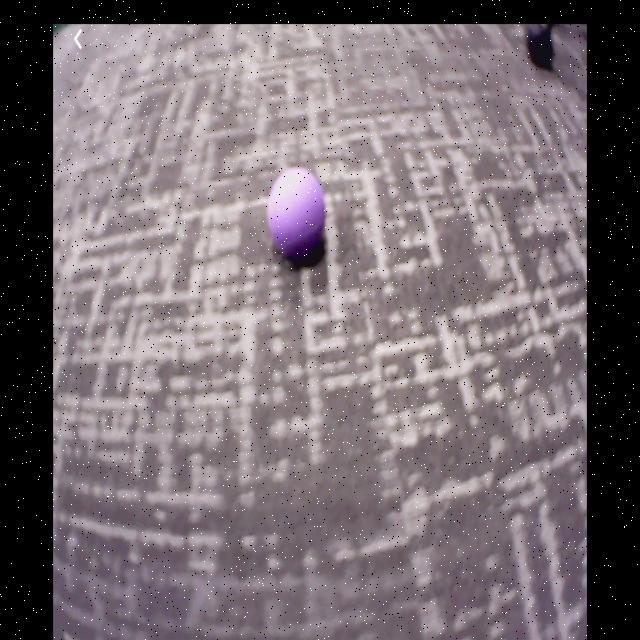ball: (268, 168, 327, 253)
